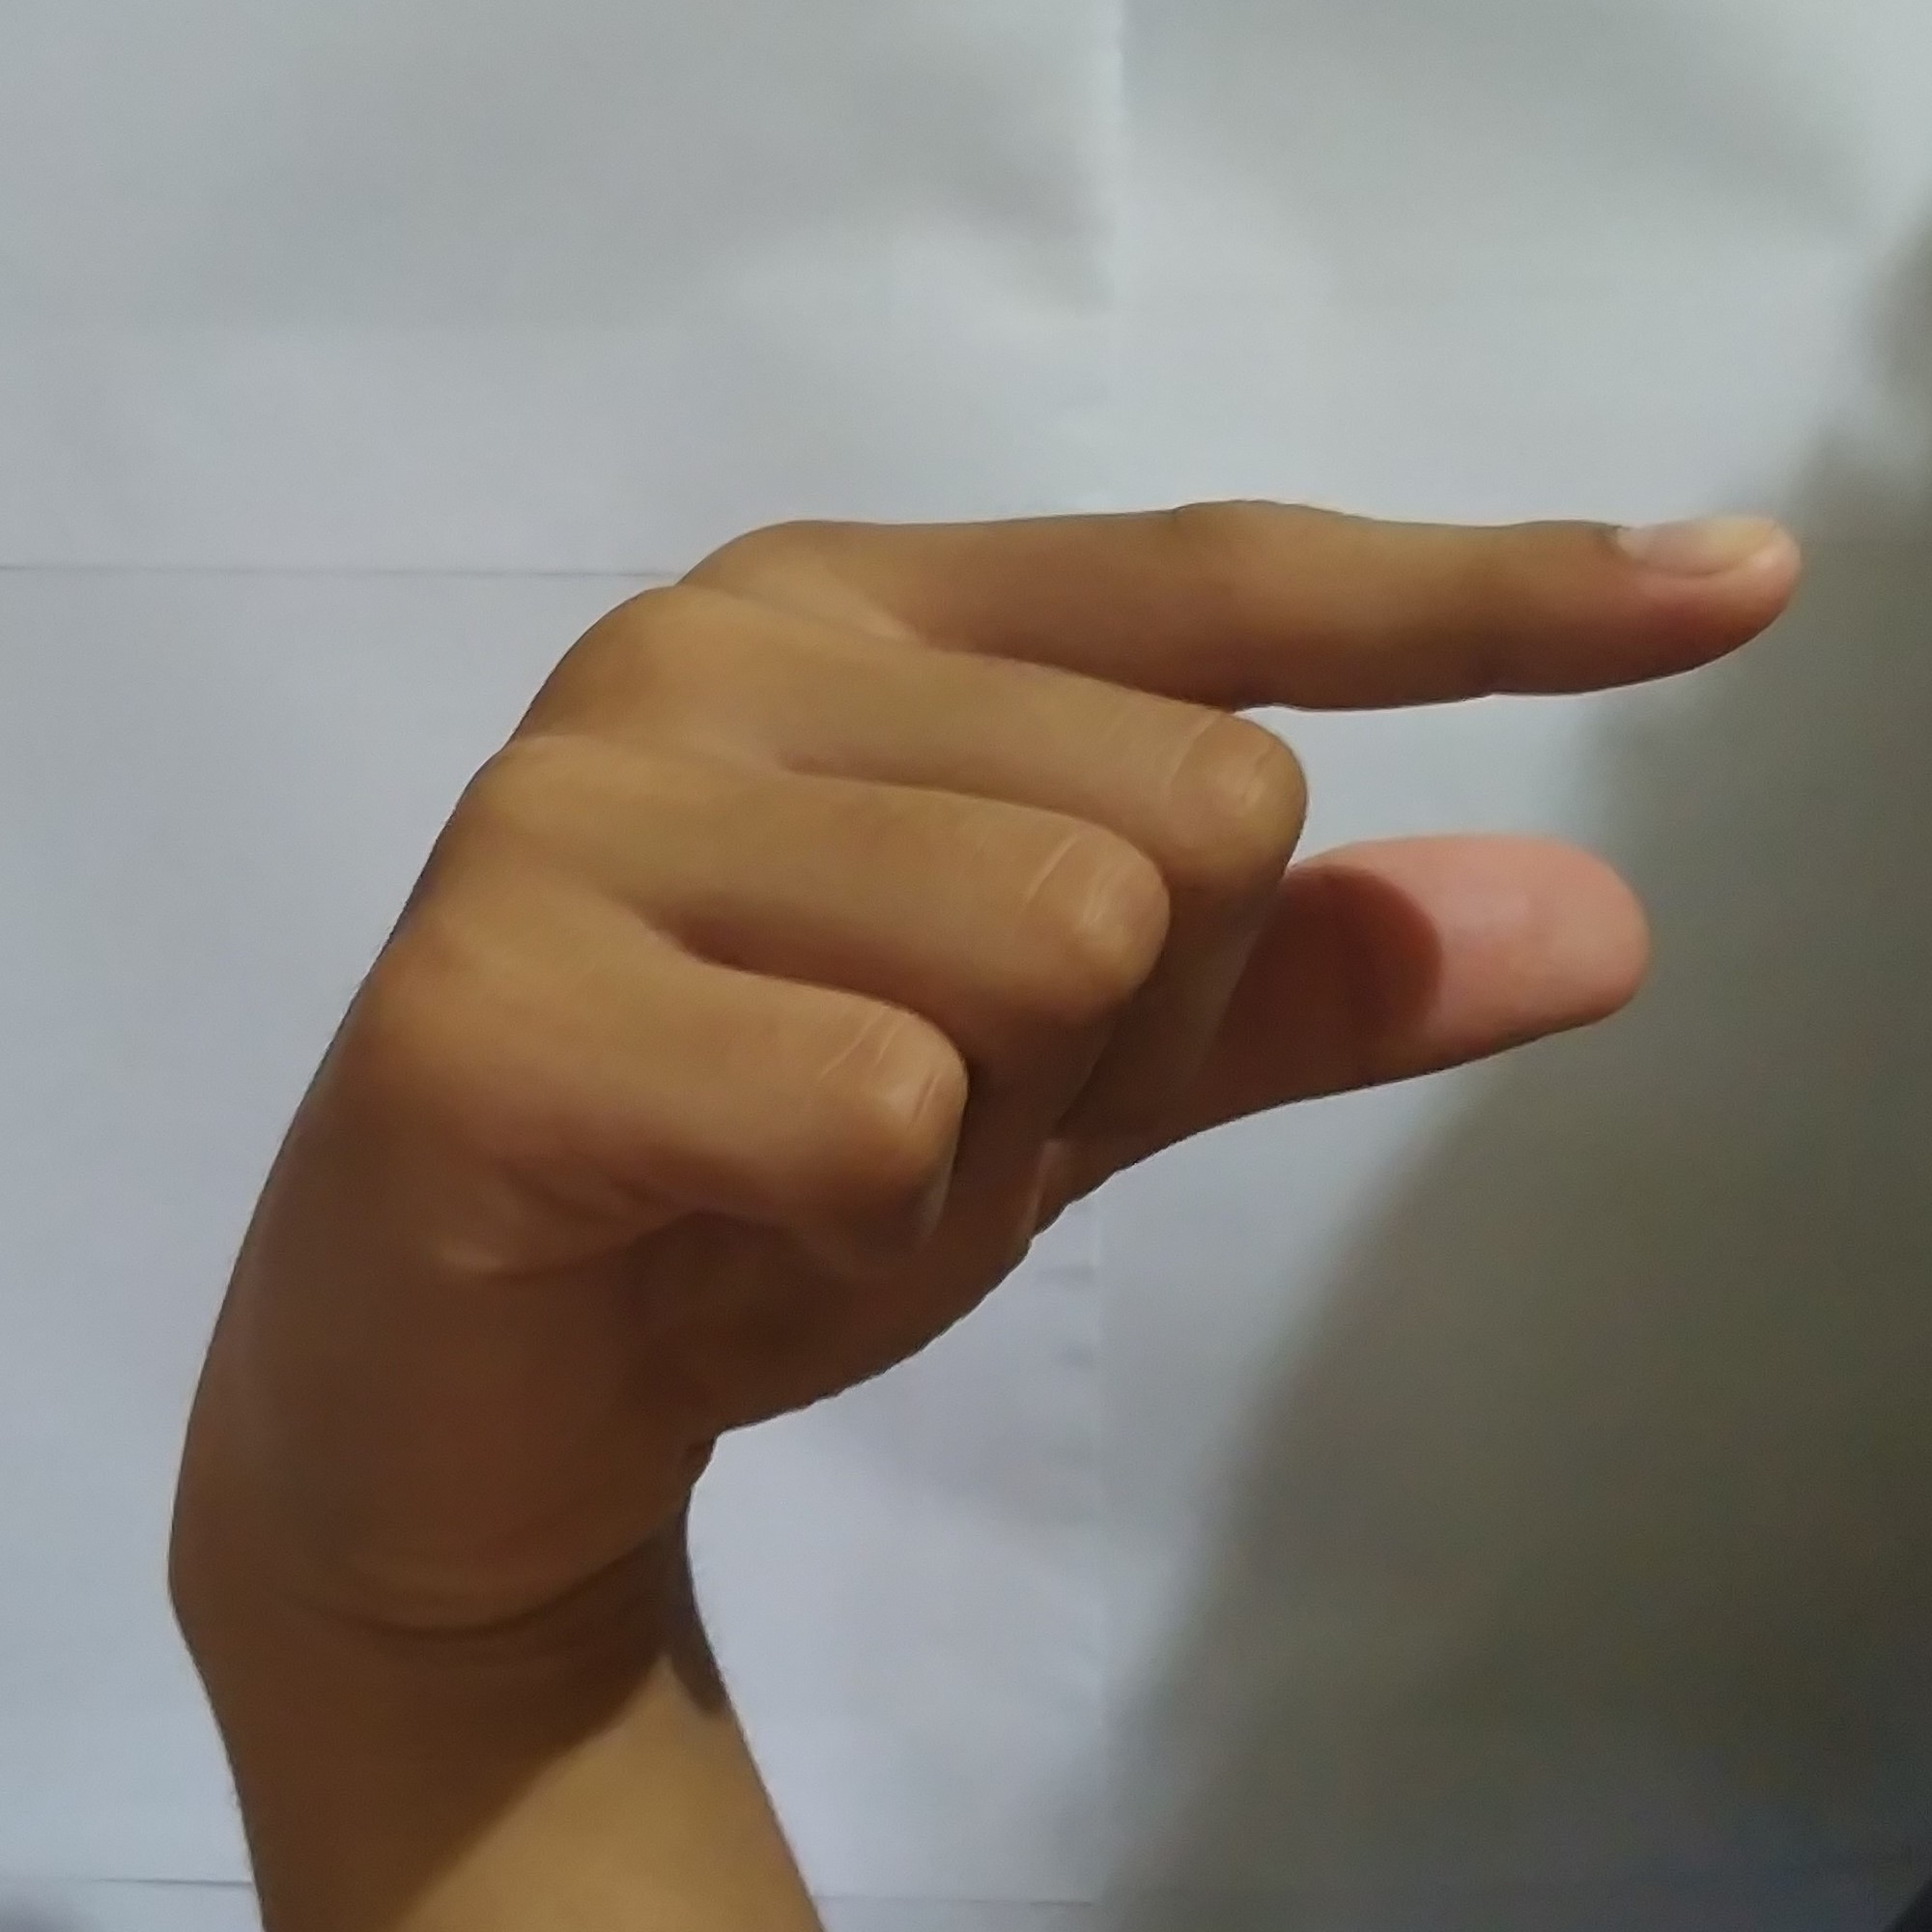G: (180, 474, 1819, 1522)
